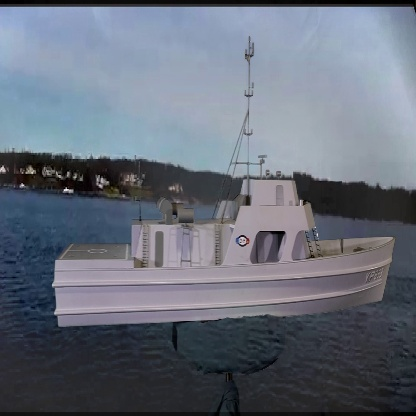YP689: (52, 32, 396, 334)
